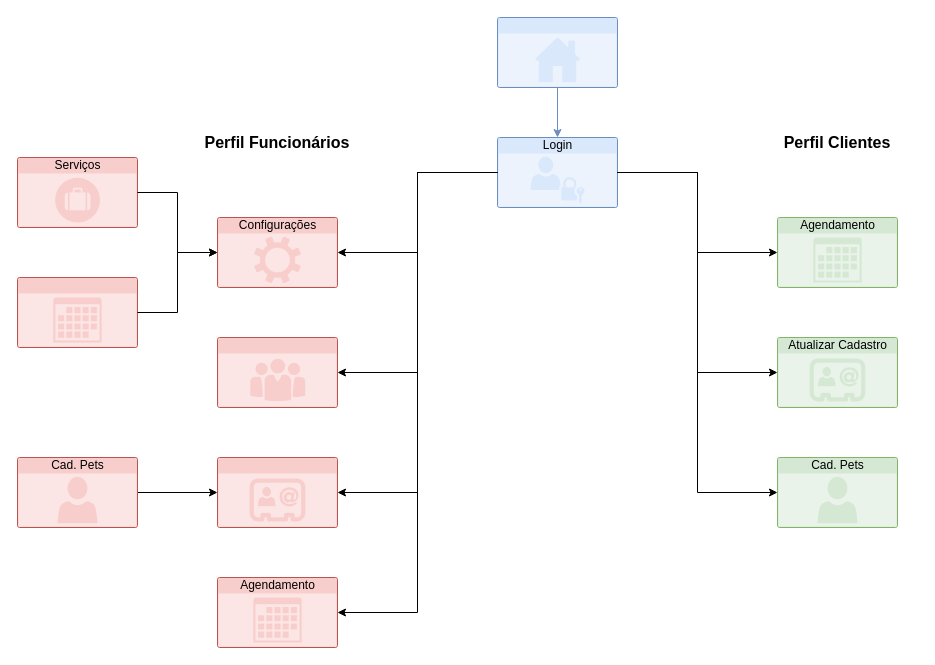
The diagram is 935 pixels wide and 665 high, and some of its shapes have lost their labels. Each missing label, with the centre of its shape:
"Cad. Clientes" goes at point (277, 492).
"Calendário Serviços" goes at point (77, 312).
"Funcionários" goes at point (277, 372).
"Home" goes at point (557, 52).
